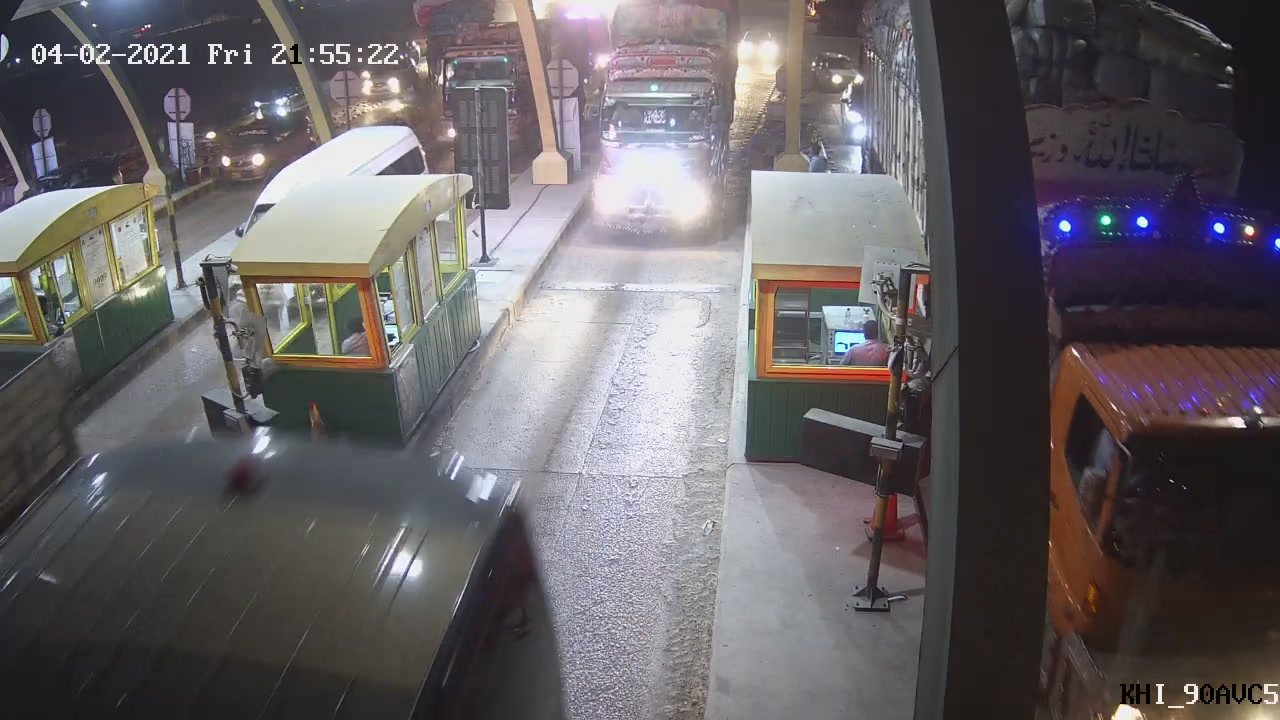F5: (574, 30, 740, 243)
